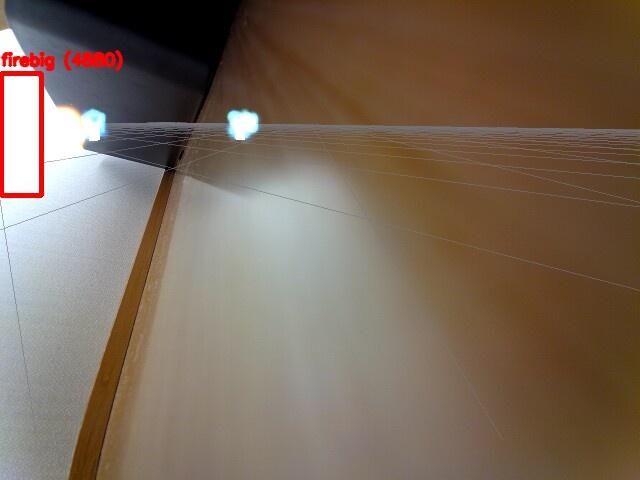firebig: (1, 73, 41, 195)
